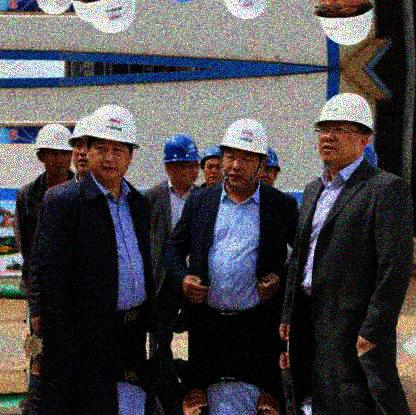helmet: (315, 92, 374, 167), (82, 103, 141, 177), (221, 119, 266, 189), (315, 1, 374, 43), (34, 123, 76, 176), (164, 135, 202, 185), (69, 115, 92, 171), (260, 146, 280, 186), (201, 149, 223, 184)
